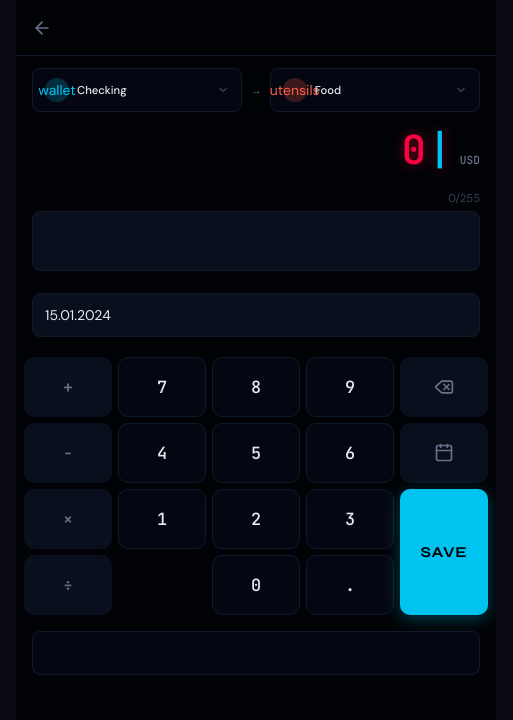
Scenario: handleStep3FromPick › account pick in expense mode (no conflict): FROM pill updates to new account
Expected: the text "Checking" is shown, x1=77 y1=83 x2=127 y2=97
Expected: the text "Food" is shown, x1=315 y1=83 x2=341 y2=97
Click the button "wallet Checking" at [137, 90], box x1=32 y1=68 x2=242 y2=112
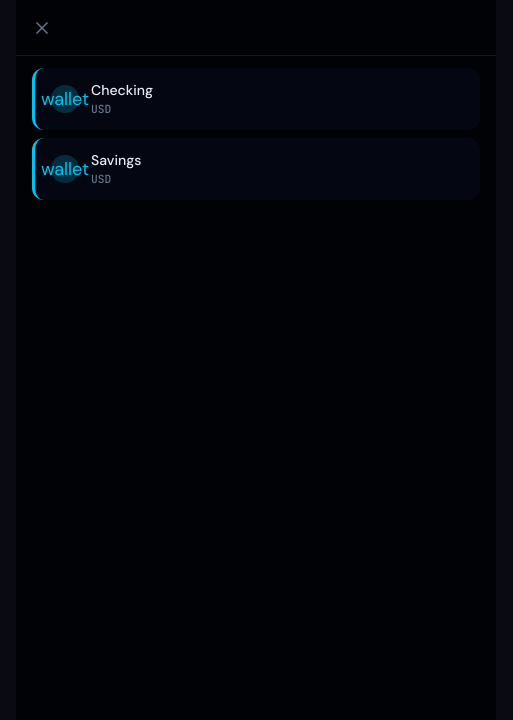
Note: FROM picker shows Savings — click it
Click the text "Savings" at [116, 160], box x1=91 y1=151 x2=141 y2=169
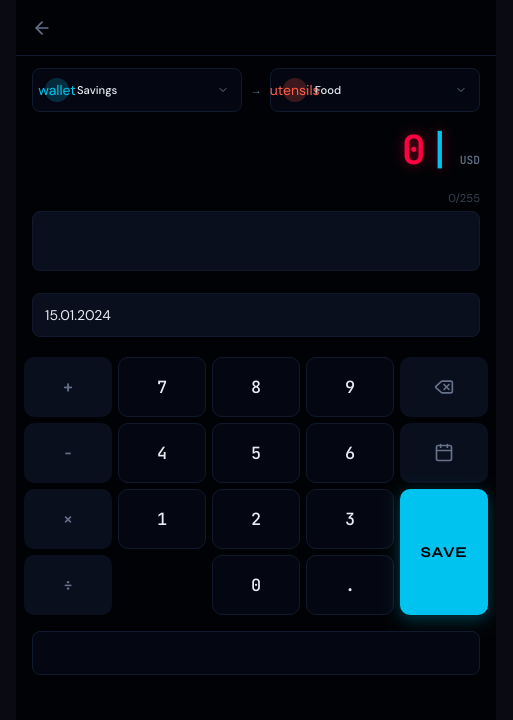
Expected: the text "Food" is shown, x1=315 y1=83 x2=341 y2=97
Expected: the text "Savings" is shown, x1=77 y1=83 x2=117 y2=97
